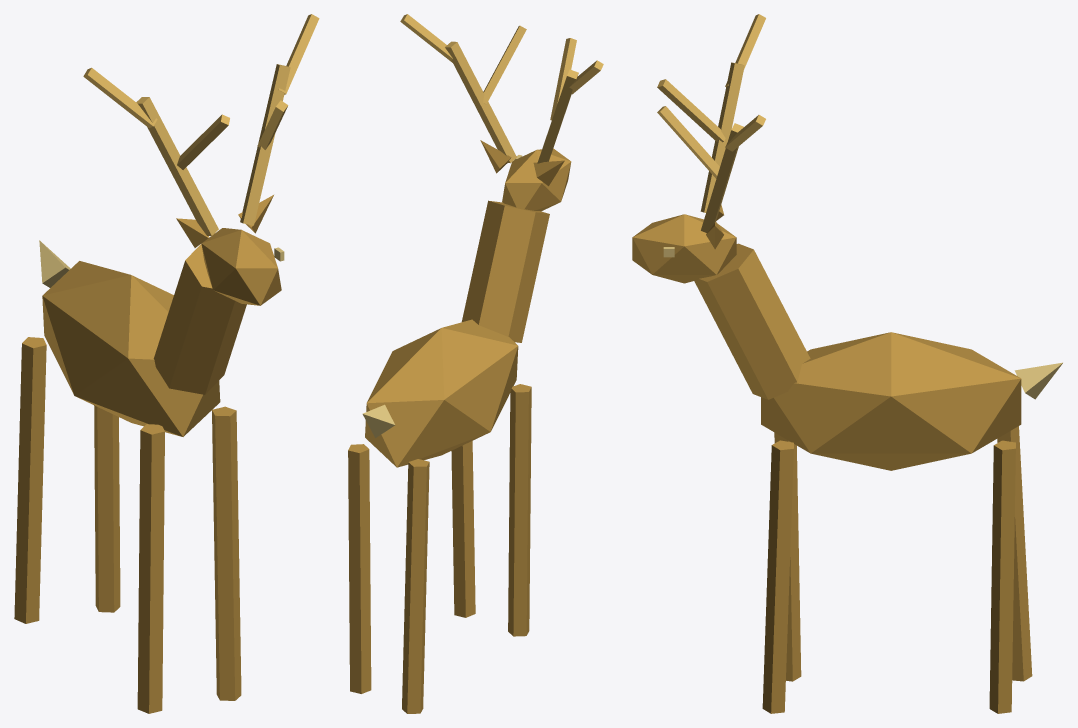
Rendered from gold_deer.glb.
3 views of the same model, side by side, from view 1: azimuth 30°, elevation 25°; view 2: azimuth 150°, elevation 25°; view 3: azimuth 270°, elevation 25° (orthographic). The views are drawn at different scales.
Visible parts, largest first — view 1: golden flank, golden neck, slender leg.001, slender leg, slender leg.002, slender leg.003, golden head, antler, antler.001, antler tine.001, antler tine, antler tine.003 (+3 smaller); view 2: golden flank, golden neck, slender leg.002, slender leg, slender leg.003, slender leg.001, golden head, antler.001, antler, antler tine.002, antler tine, antler tine.003 (+4 smaller); view 3: golden flank, golden neck, slender leg.001, slender leg.003, golden head, slender leg.002, slender leg, antler, antler.001, antler tine, antler tine.002, white tail.
Boxes of the visible parts, x1,y1,x2,y2 form: golden flank: [42, 261, 220, 436]; golden neck: [153, 244, 246, 394]; slender leg.001: [212, 406, 241, 700]; slender leg: [137, 424, 164, 713]; slender leg.002: [14, 337, 46, 623]; slender leg.003: [94, 405, 120, 612]; golden head: [201, 228, 281, 305]; antler: [136, 97, 218, 235]; antler.001: [240, 64, 290, 225]; antler tine.001: [83, 67, 157, 127]; antler tine: [177, 114, 229, 169]; antler tine.003: [278, 14, 319, 94]; golden flank: [365, 319, 518, 467]; golden neck: [461, 200, 549, 342]; slender leg.002: [402, 459, 429, 713]; slender leg: [508, 384, 531, 636]; slender leg.003: [348, 444, 371, 693]; slender leg.001: [451, 441, 475, 617]; golden head: [502, 148, 571, 211]; antler.001: [445, 41, 516, 163]; antler: [537, 69, 578, 163]; antler tine.002: [483, 25, 526, 104]; antler tine: [550, 38, 576, 120]; antler tine.003: [400, 14, 452, 62]; golden flank: [761, 332, 1021, 470]; golden neck: [694, 243, 810, 399]; slender leg.001: [762, 440, 793, 713]; slender leg.003: [989, 440, 1015, 713]; golden head: [632, 214, 736, 283]; slender leg.002: [997, 426, 1032, 681]; slender leg: [774, 432, 801, 681]; antler: [700, 62, 744, 212]; antler.001: [701, 123, 743, 232]; antler tine: [657, 79, 725, 142]; antler tine.002: [657, 106, 719, 178]; white tail: [1014, 362, 1062, 399].
Bounding box in the file's own units: 0.3291 × 0.9067 × 0.5633.
